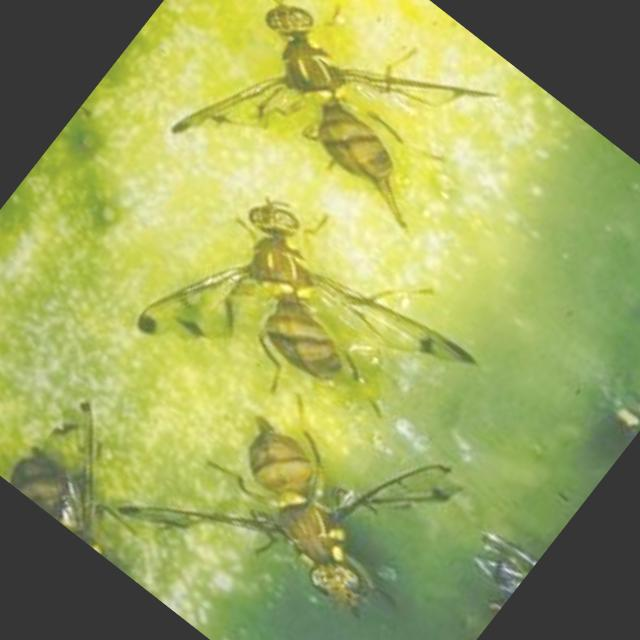melon fly: (108, 112, 514, 490), (162, 0, 565, 285), (140, 326, 482, 640)
